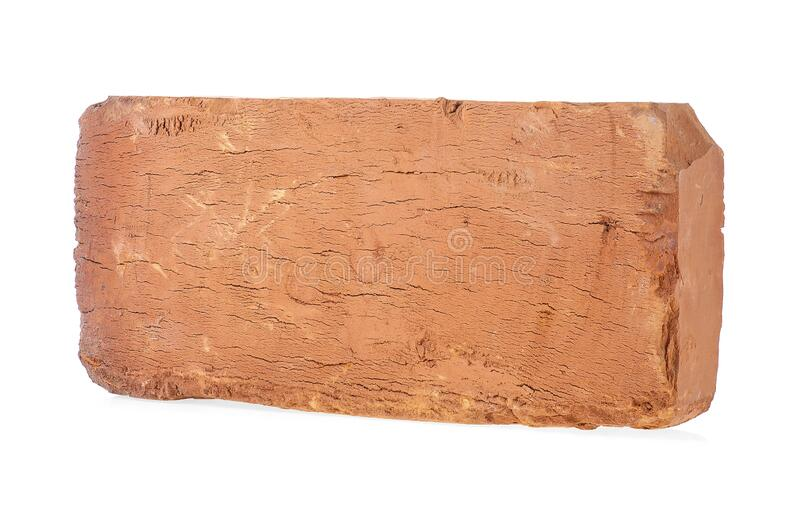brick: (79, 95, 719, 389)
